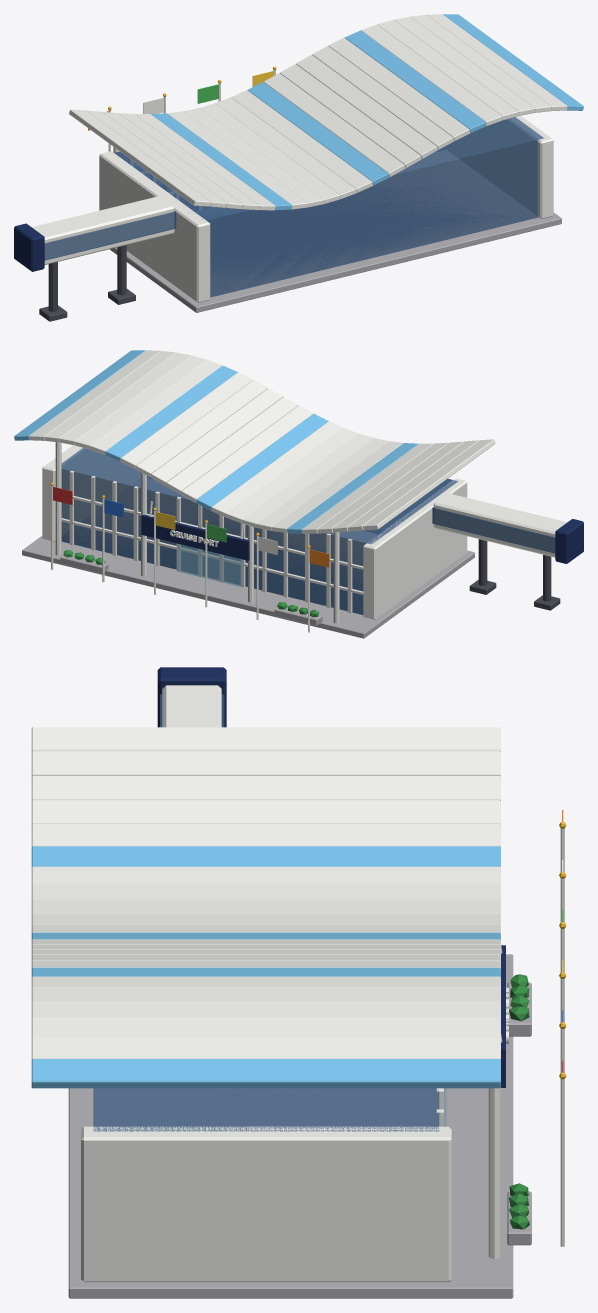
Rendered from HarborTerminal.fbx.
3 views of the same model, one above another, from view 1: azimuth 30°, elevation 25°; view 2: azimuth 150°, elevation 25°; view 3: azimuth 270°, elevation 25° (orthographic). The views are drawn at different scales.
Parts seen in each view (by area): view 1: HarborTerminal_White, HarborTerminal_GlassDark, HarborTerminal_Concrete, HarborTerminal_SkyBlue, HarborTerminal_DarkMetal, HarborTerminal_Navy; view 2: HarborTerminal_White, HarborTerminal_GlassDark, HarborTerminal_Concrete, HarborTerminal_SkyBlue, HarborTerminal_Navy, HarborTerminal_Glass, HarborTerminal_DarkMetal, HarborTerminal_Hedge; view 3: HarborTerminal_White, HarborTerminal_Concrete, HarborTerminal_SkyBlue, HarborTerminal_GlassDark, HarborTerminal_Navy, HarborTerminal_Hedge.
Boxes of the visible parts, x1=… form: HarborTerminal_White: x1=32, y1=14, x2=567, y2=302; HarborTerminal_GlassDark: x1=44, y1=117, x2=543, y2=297; HarborTerminal_Concrete: x1=110, y1=150, x2=561, y2=312; HarborTerminal_SkyBlue: x1=151, y1=14, x2=583, y2=210; HarborTerminal_DarkMetal: x1=39, y1=245, x2=135, y2=321; HarborTerminal_Navy: x1=14, y1=223, x2=44, y2=271; HarborTerminal_White: x1=29, y1=350, x2=566, y2=632; HarborTerminal_GlassDark: x1=61, y1=448, x2=555, y2=614; HarborTerminal_Concrete: x1=22, y1=478, x2=474, y2=638; HarborTerminal_SkyBlue: x1=14, y1=350, x2=418, y2=533; HarborTerminal_Navy: x1=141, y1=515, x2=583, y2=563; HarborTerminal_Glass: x1=177, y1=544, x2=242, y2=586; HarborTerminal_DarkMetal: x1=469, y1=539, x2=560, y2=610; HarborTerminal_Hedge: x1=63, y1=550, x2=319, y2=617; HarborTerminal_White: x1=31, y1=685, x2=564, y2=1282; HarborTerminal_Concrete: x1=68, y1=954, x2=531, y2=1298; HarborTerminal_SkyBlue: x1=31, y1=846, x2=500, y2=1088; HarborTerminal_GlassDark: x1=93, y1=694, x2=439, y2=1131; HarborTerminal_Navy: x1=157, y1=667, x2=505, y2=1087; HarborTerminal_Hedge: x1=509, y1=974, x2=529, y2=1229.
Bounding box in the file's own units: 90.68 × 22.2 × 43.3.
